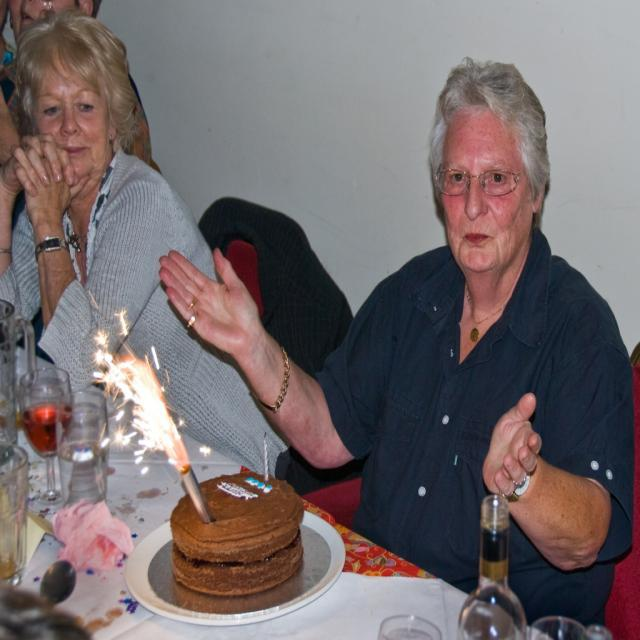Pancake: (172, 529, 304, 599)
